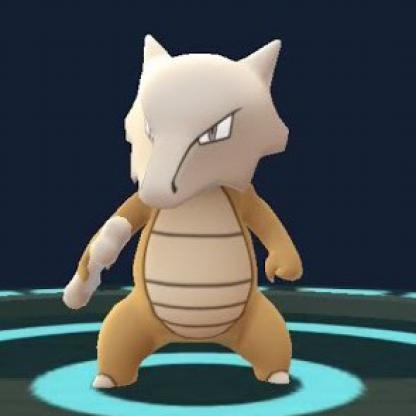Cubone: (87, 30, 303, 388)
